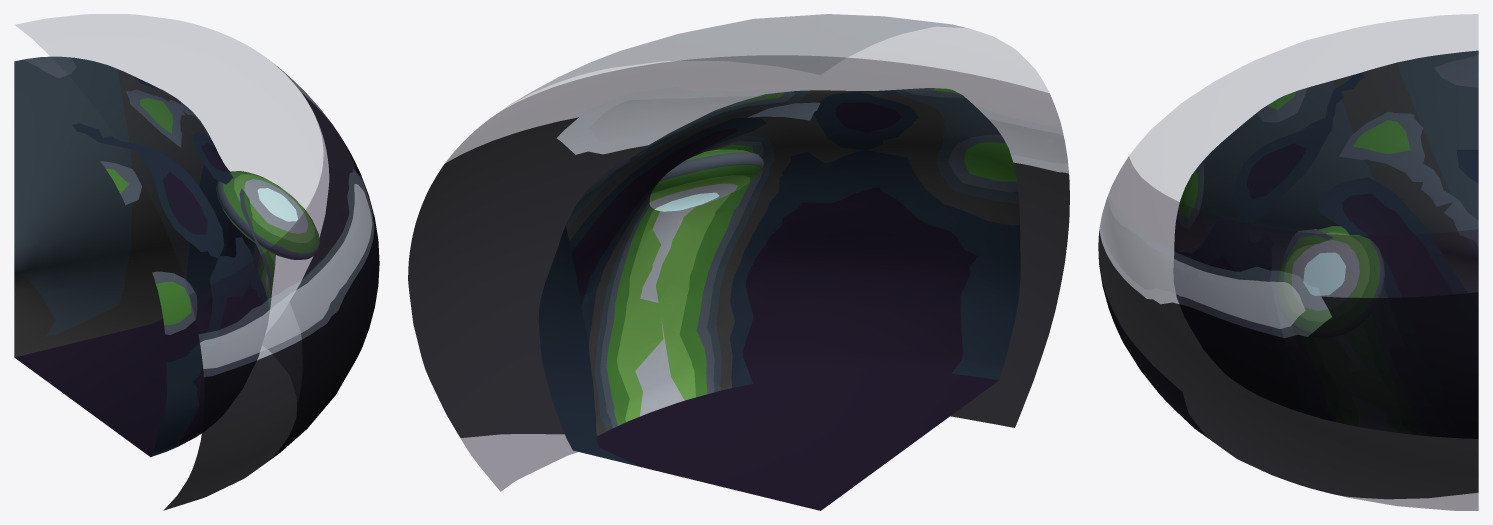
File: glass_globe_br_281.glb
3 views of the same model, side by side, from view 1: azimuth 30°, elevation 25°; view 2: azimuth 150°, elevation 25°; view 3: azimuth 270°, elevation 25° (orthographic). The views are drawn at different scales.
Visible parts, largest first — view 1: glass_globe_br; view 2: glass_globe_br; view 3: glass_globe_br.
Part boxes in pixels (bbox=[...]): glass_globe_br: bbox=[14, 14, 379, 510]; glass_globe_br: bbox=[408, 14, 1069, 510]; glass_globe_br: bbox=[1098, 14, 1478, 510].
Size of the model in its own units: 21.88 by 25.07 by 22.88.
